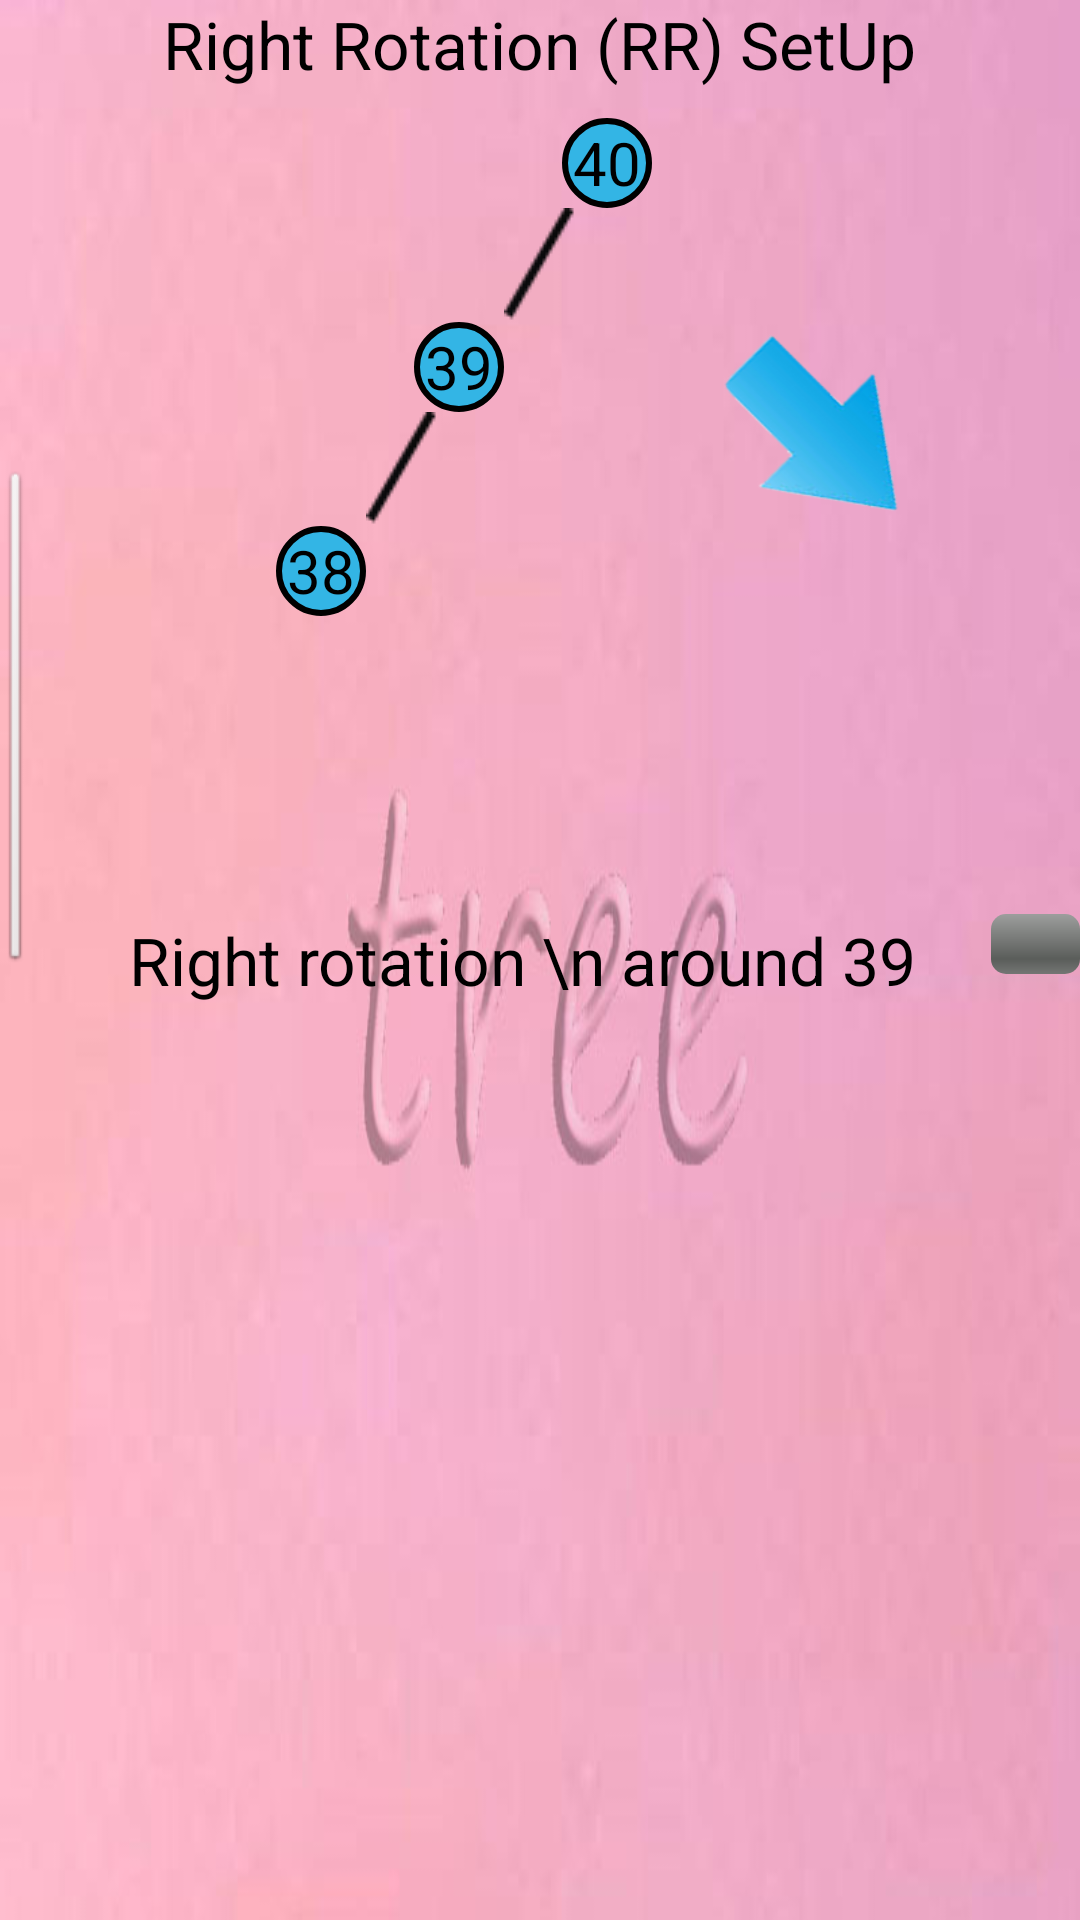

Named icons in this screenshot (1080 x 1920) and their centers, point (x, y):
arrows: point (811, 423)
